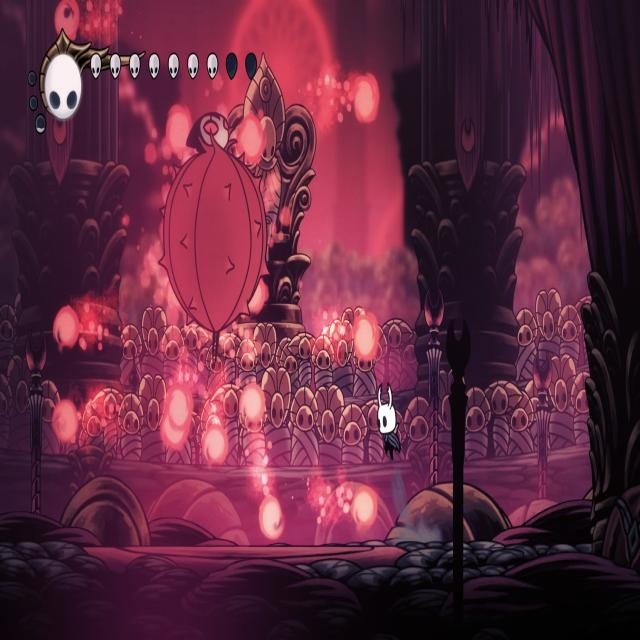Player: (375, 379, 405, 465)
Pufferfish: (157, 105, 275, 376)
Tiny Fireballs: (160, 383, 192, 449), (238, 115, 266, 168), (166, 106, 192, 162), (54, 398, 80, 446), (353, 314, 378, 363), (353, 74, 378, 122), (54, 307, 79, 352), (240, 384, 265, 426), (56, 0, 81, 41), (262, 498, 285, 540), (204, 424, 228, 464), (352, 486, 376, 524), (246, 275, 266, 314)
